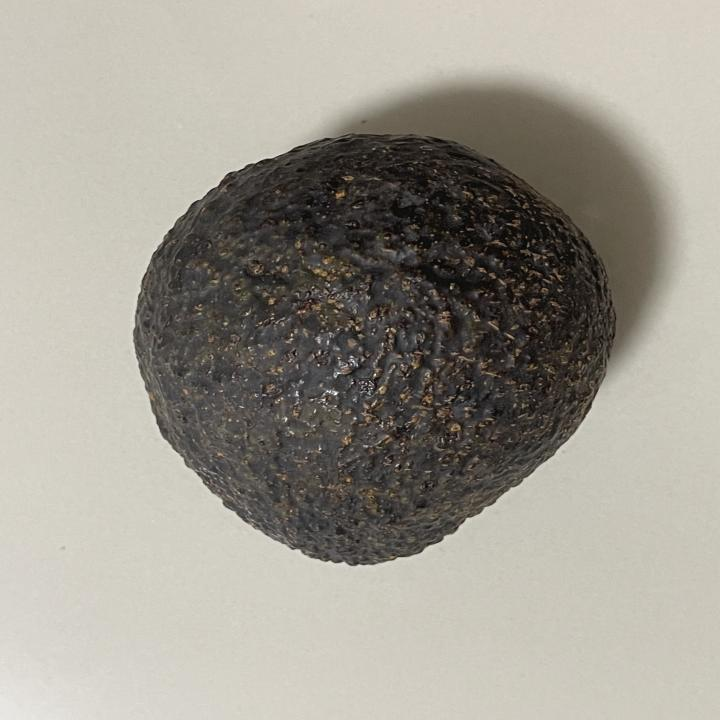Level2: (124, 125, 622, 570)
